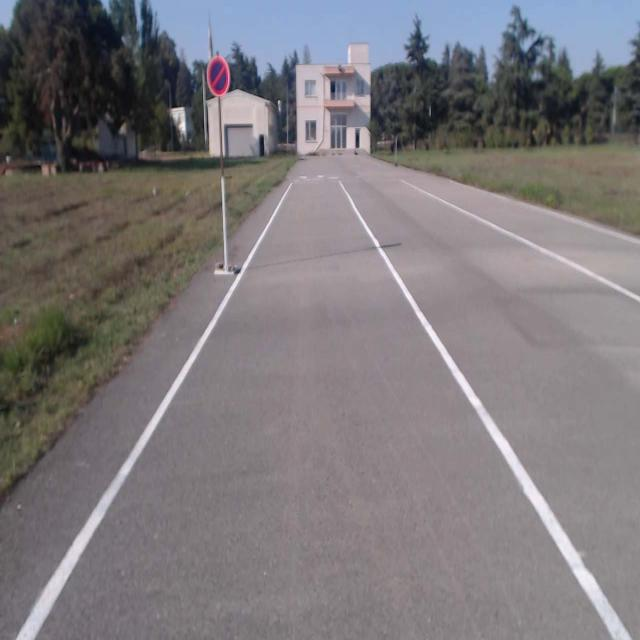parkyasak: (207, 56, 229, 95)
